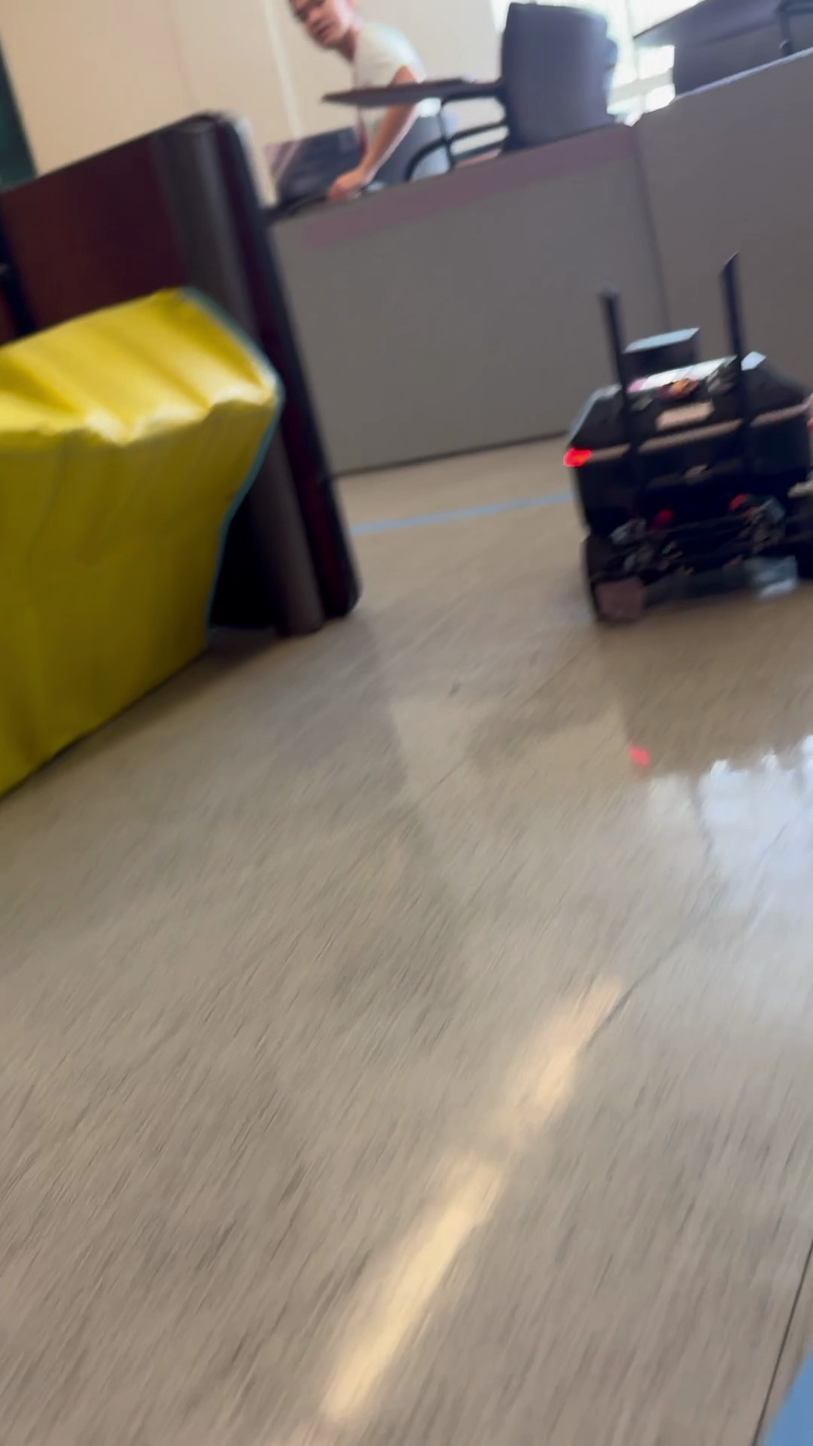racecar: (564, 262, 811, 622)
